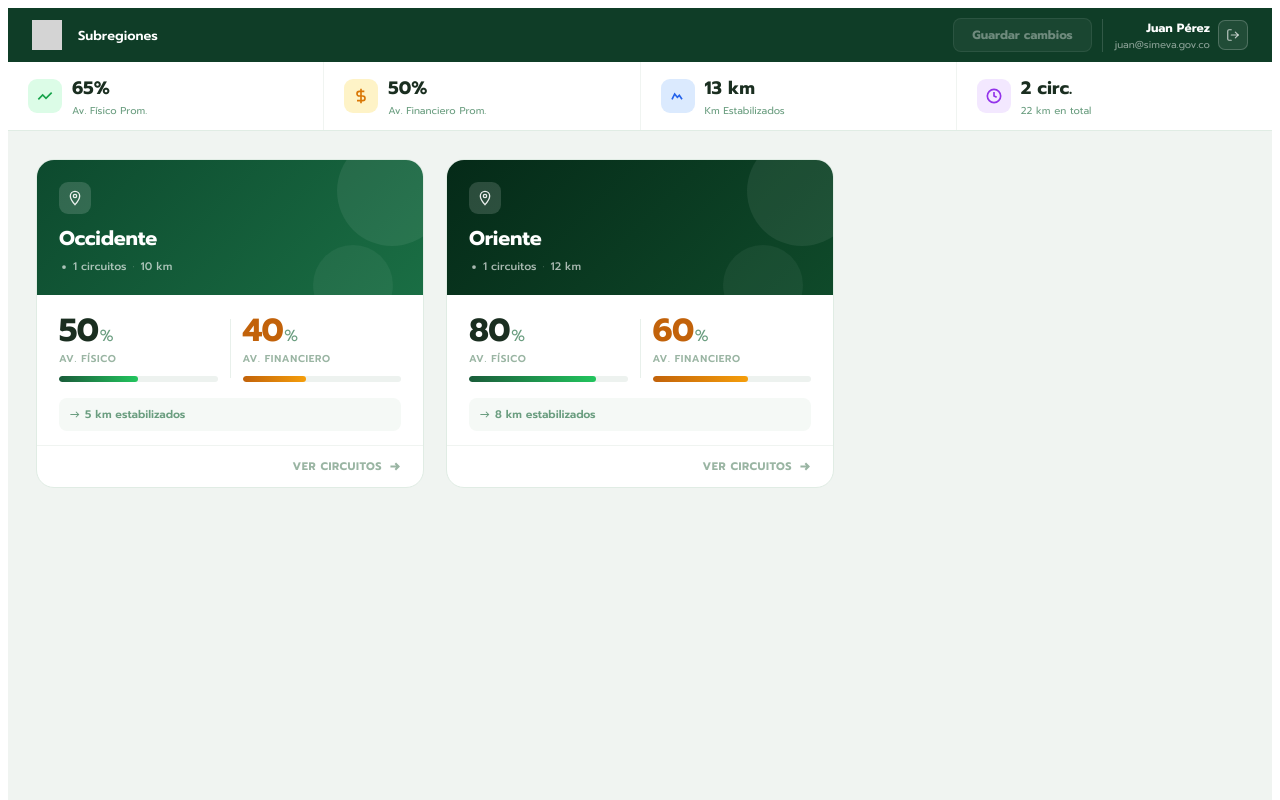
AdminGeoJsonView — con sesión autenticada › navega a la tabla de un circuito al hacer clic en la subregión
Click the element with class "subcard" that starts with "Occidente".
click(230, 324)  # box [36,159,424,488]
(page scrolled)
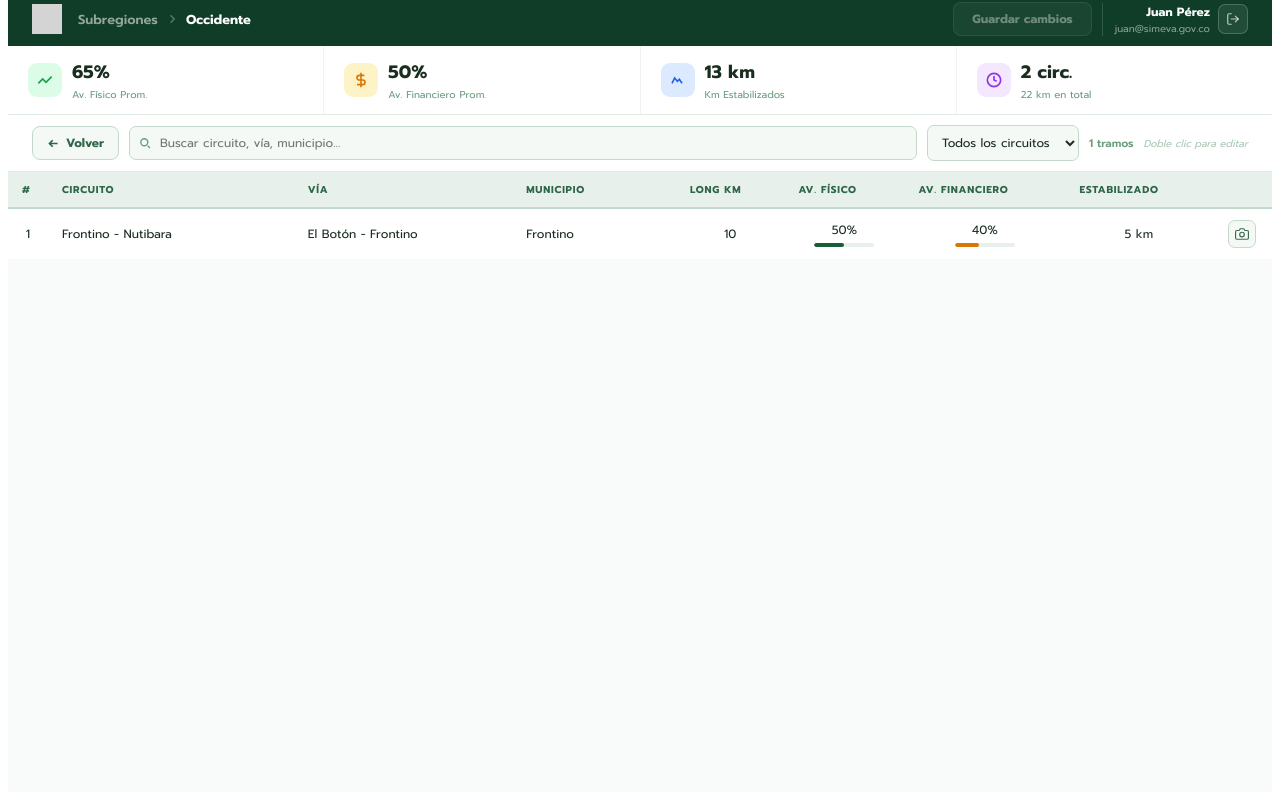
Expected: the element that starts with "Volver" is shown
Expected: the number of rows with class "tbl-row" is 1, [8,209,1272,259]
